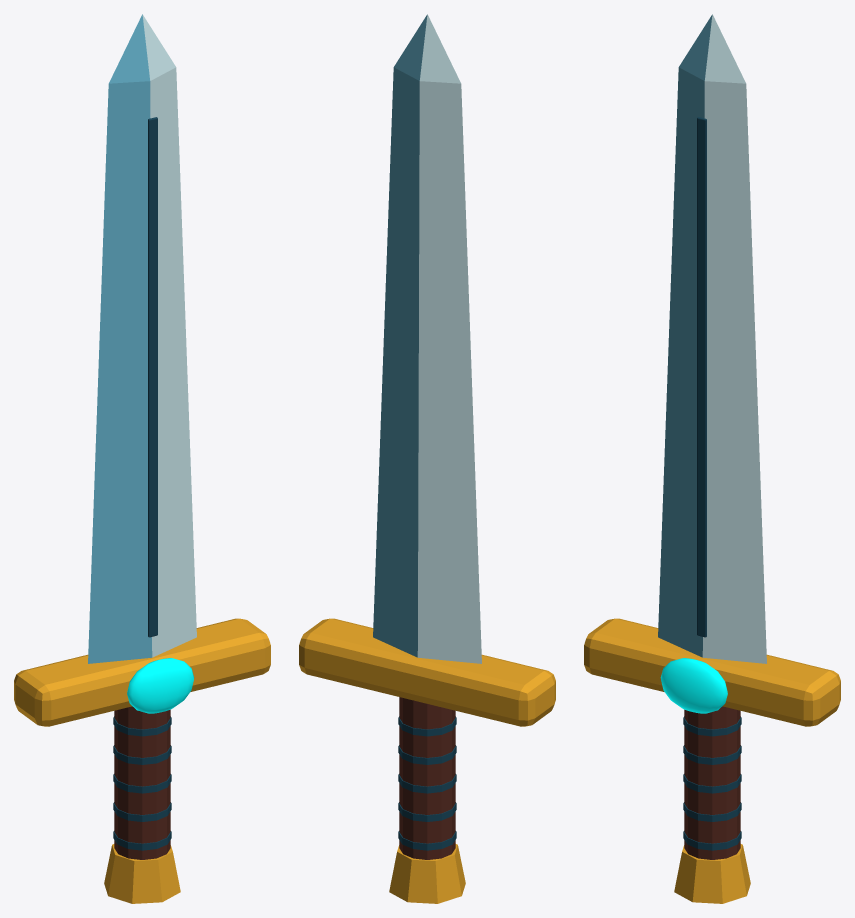
Rendered from greatsword.glb.
3 views of the same model, side by side, from view 1: azimuth 30°, elevation 25°; view 2: azimuth 150°, elevation 25°; view 3: azimuth 330°, elevation 25° (orthographic).
Visible parts, largest first — view 1: greatsword; view 2: greatsword; view 3: greatsword.
Boxes of the visible parts, bbox=[...] form: greatsword: bbox=[14, 14, 270, 903]; greatsword: bbox=[299, 14, 555, 903]; greatsword: bbox=[584, 14, 840, 903].
Size of the model in its own units: 0.56 by 1.99 by 0.182.
